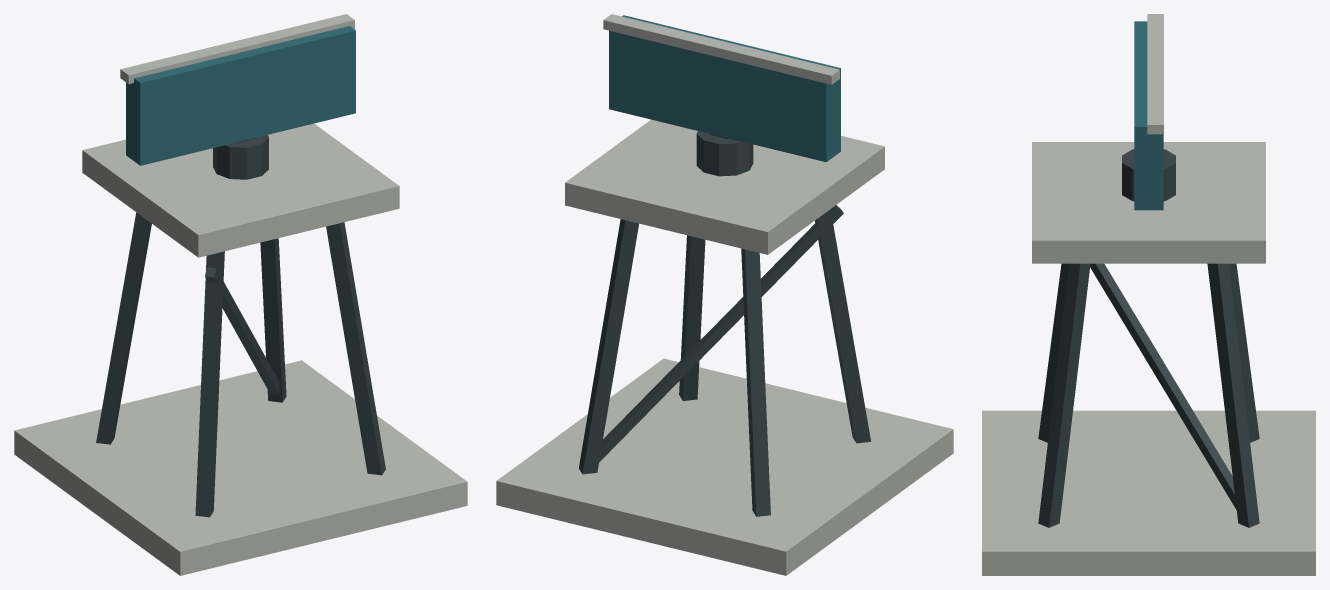
File: MIL_Radar.fbx
The picture shows the model from 3 angles, left to right: view 1: azimuth 30°, elevation 25°; view 2: azimuth 150°, elevation 25°; view 3: azimuth 270°, elevation 25°; orthographic projection.
Visible parts, largest first — view 1: MIL_Radar_ENV_Concrete, MIL_Radar_Gunmetal, RadarHousing, RadarFrame; view 2: MIL_Radar_ENV_Concrete, MIL_Radar_Gunmetal, RadarHousing, RadarFrame; view 3: MIL_Radar_ENV_Concrete, MIL_Radar_Gunmetal, RadarHousing, RadarFrame.
Part boxes in pixels (box(x1,y1,x2,y2)): MIL_Radar_ENV_Concrete: box(14, 123, 467, 575); MIL_Radar_Gunmetal: box(96, 135, 385, 517); RadarHousing: box(126, 26, 355, 165); RadarFrame: box(120, 14, 354, 84); MIL_Radar_ENV_Concrete: box(496, 119, 953, 575); MIL_Radar_Gunmetal: box(579, 131, 871, 516); RadarHousing: box(609, 15, 840, 162); RadarFrame: box(603, 14, 839, 84); MIL_Radar_ENV_Concrete: box(982, 142, 1315, 575); MIL_Radar_Gunmetal: box(1038, 149, 1259, 527); RadarHousing: box(1134, 21, 1163, 210); RadarFrame: box(1147, 14, 1163, 134).
Bounding box in the file's own units: 400 × 576 × 400.
